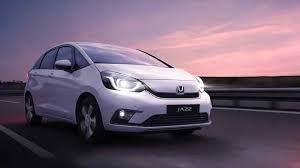Honda: (26, 43, 212, 142)
